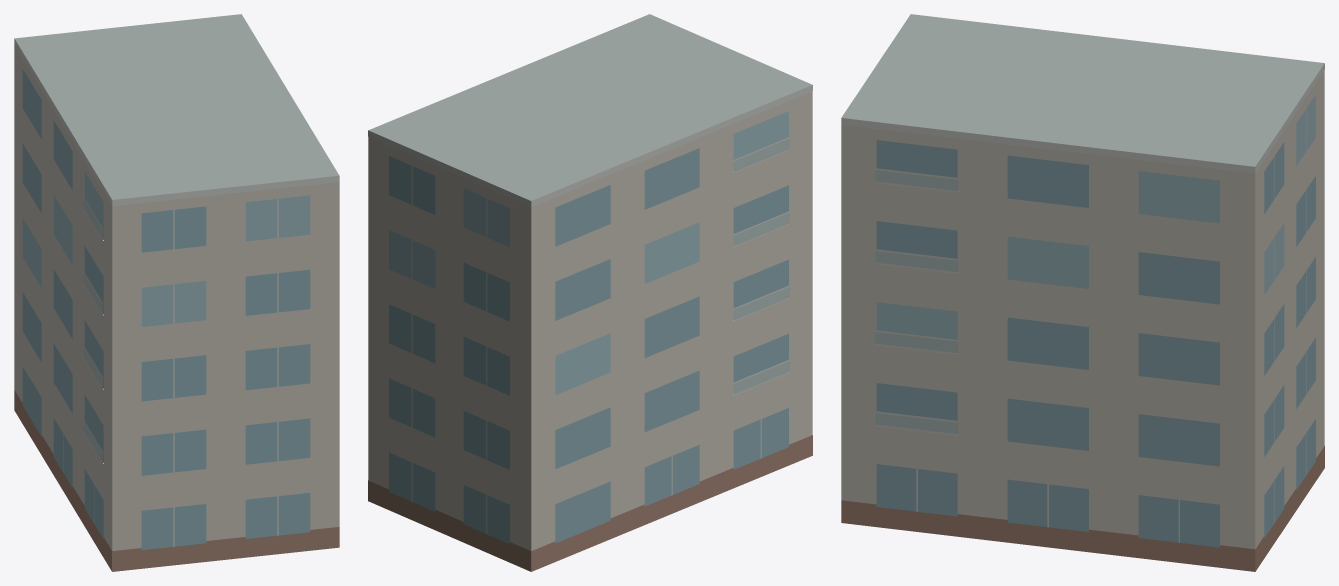
File: survey-upis-33004495.glb
3 views of the same model, side by side, from view 1: azimuth 30°, elevation 25°; view 2: azimuth 150°, elevation 25°; view 3: azimuth 270°, elevation 25° (orthographic). The views are drawn at different scales.
Parts seen in each view (by area): view 1: survey-upis-33004495.tmp; view 2: survey-upis-33004495.tmp; view 3: survey-upis-33004495.tmp.
Part boxes in pixels (left/top/right/bottom): survey-upis-33004495.tmp: left=14, top=14, right=339, bottom=571; survey-upis-33004495.tmp: left=368, top=14, right=812, bottom=571; survey-upis-33004495.tmp: left=841, top=14, right=1324, bottom=571.
Bounding box in the file's own units: 11.75 × 14.5 × 15.7.
